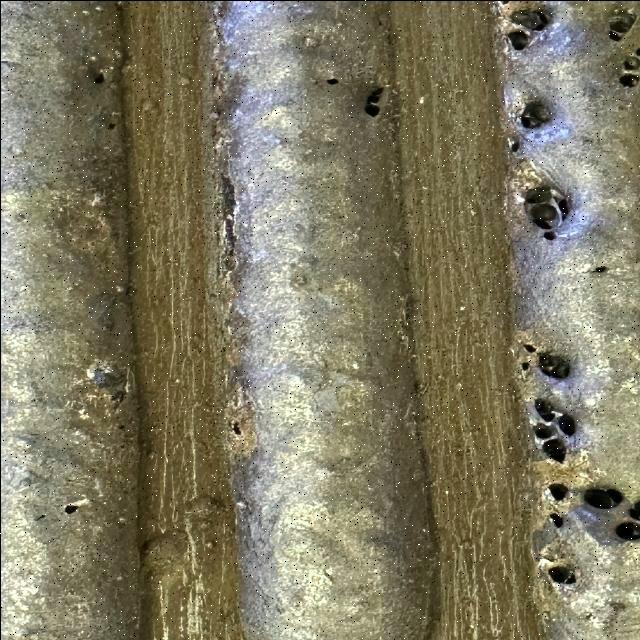Excess Reinforcement: (215, 171, 235, 295)
Porosity: (523, 186, 568, 230), (615, 501, 640, 540), (518, 101, 550, 128), (607, 10, 635, 40), (537, 351, 568, 378), (583, 488, 622, 509), (510, 9, 547, 30), (363, 87, 383, 116), (542, 438, 565, 461), (547, 567, 575, 584), (615, 521, 640, 540), (533, 398, 553, 421), (507, 30, 528, 50), (557, 414, 575, 435), (547, 482, 567, 500), (532, 422, 553, 439), (618, 72, 638, 86), (622, 56, 640, 70), (628, 499, 640, 520), (548, 512, 563, 528), (507, 136, 520, 152), (63, 504, 78, 514), (542, 230, 555, 240), (93, 71, 103, 82), (593, 265, 607, 272), (523, 344, 535, 352), (325, 78, 338, 85), (520, 361, 528, 370), (633, 47, 640, 55)
Spatters: (140, 529, 187, 590), (183, 496, 227, 518), (185, 516, 213, 531), (235, 496, 248, 511), (107, 0, 122, 11), (140, 98, 153, 110), (303, 36, 317, 46), (333, 17, 347, 26), (177, 75, 188, 85), (232, 422, 239, 434), (205, 540, 215, 548), (120, 286, 129, 294), (15, 213, 25, 220), (107, 122, 115, 129), (118, 516, 125, 521), (80, 9, 87, 14), (458, 305, 465, 310), (117, 424, 123, 429)
